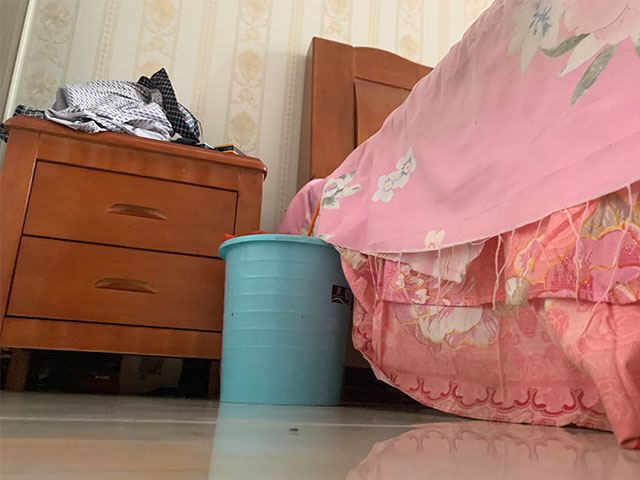bed: (273, 1, 640, 449)
cabinet: (2, 113, 269, 403)
trashcan: (214, 234, 353, 408)
